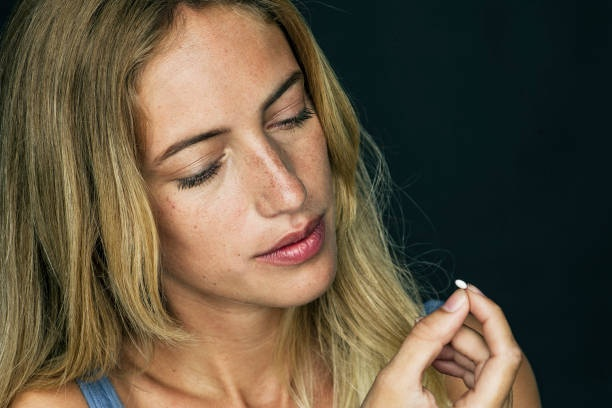pills: (456, 273, 467, 293)
